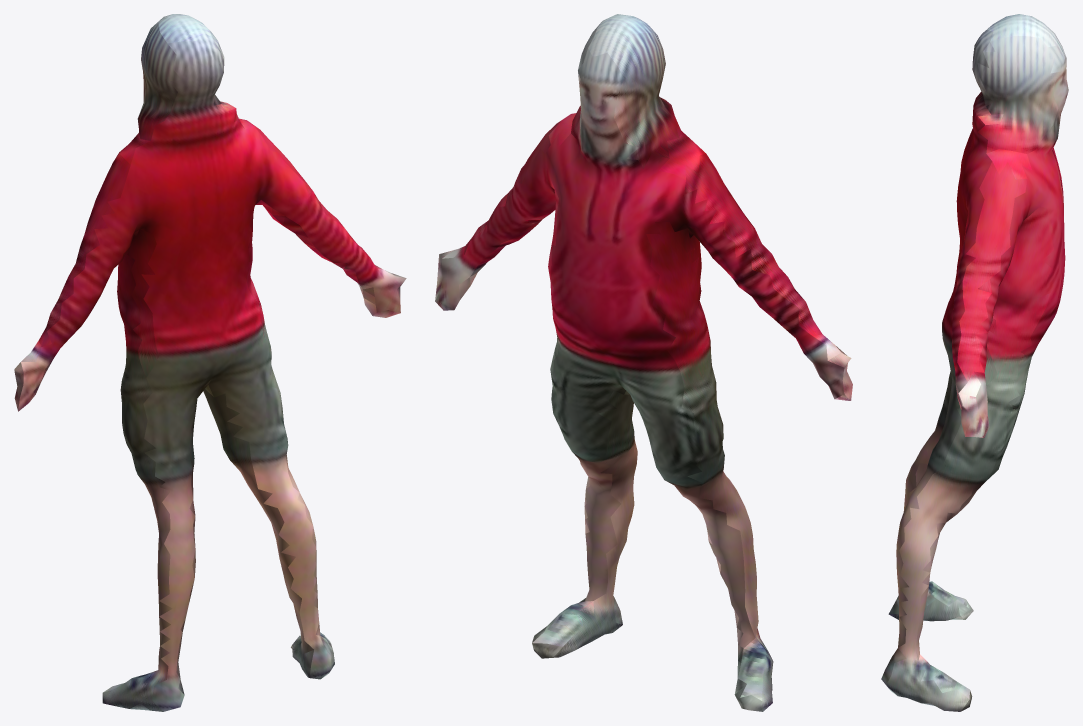
3 views of the same model, side by side, from view 1: azimuth 30°, elevation 25°; view 2: azimuth 150°, elevation 25°; view 3: azimuth 270°, elevation 25° (orthographic). The views are drawn at different scales.
Parts seen in each view (by area): view 1: world; view 2: world; view 3: world.
Boxes of the visible parts, x1,y1,x2,y2 form: world: (14,14,406,711); world: (435,14,852,711); world: (881,14,1068,711).
Bounding box in the file's own units: 0.6358 × 1 × 0.2651.
Materials: 1 (1 with a texture image).
